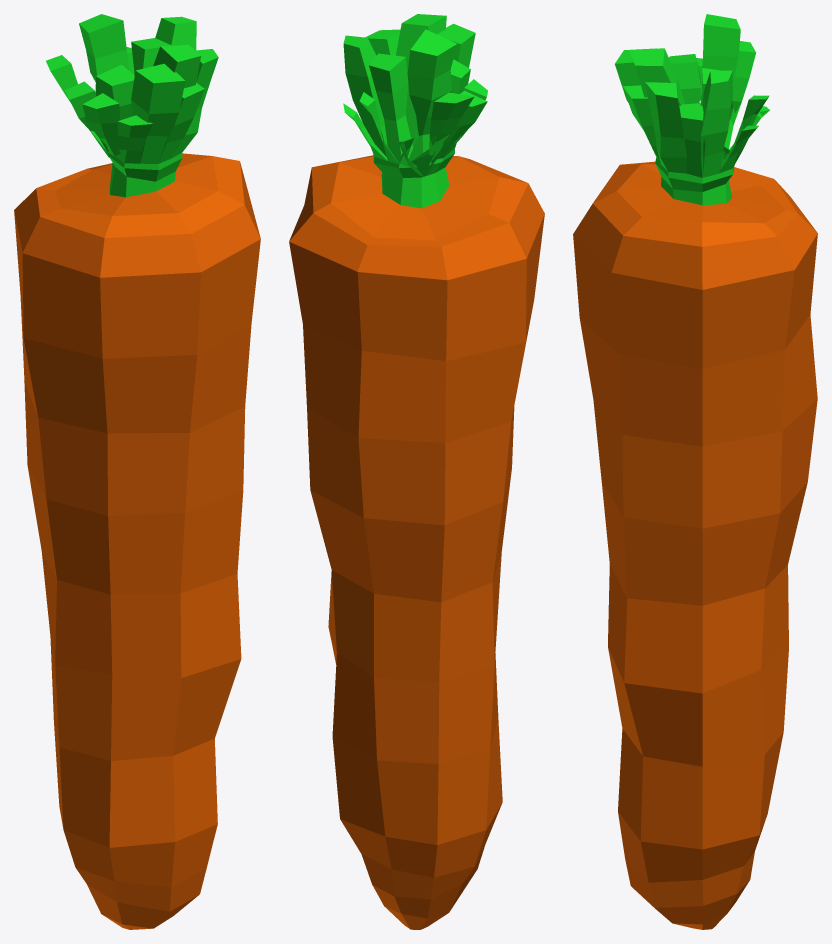
File: Carrot.fbx
The picture shows the model from 3 angles, left to right: view 1: azimuth 30°, elevation 25°; view 2: azimuth 150°, elevation 25°; view 3: azimuth 270°, elevation 25°; orthographic projection.
Parts seen in each view (by area): view 1: Cylinder; view 2: Cylinder; view 3: Cylinder.
Boxes of the visible parts, bbox=[...] form: Cylinder: bbox=[14, 14, 260, 929]; Cylinder: bbox=[289, 14, 544, 929]; Cylinder: bbox=[573, 14, 817, 929].
Bounding box in the file's own units: 45.22 × 174 × 43.16.
